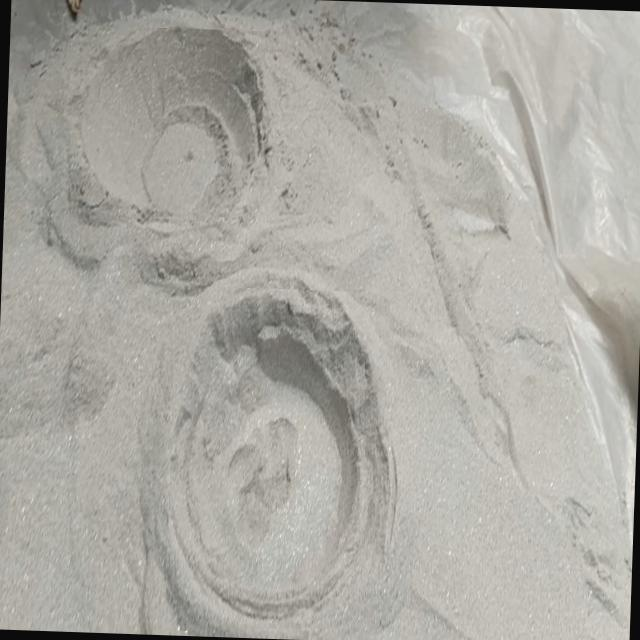C20: (168, 288, 382, 630), (73, 27, 263, 220)
